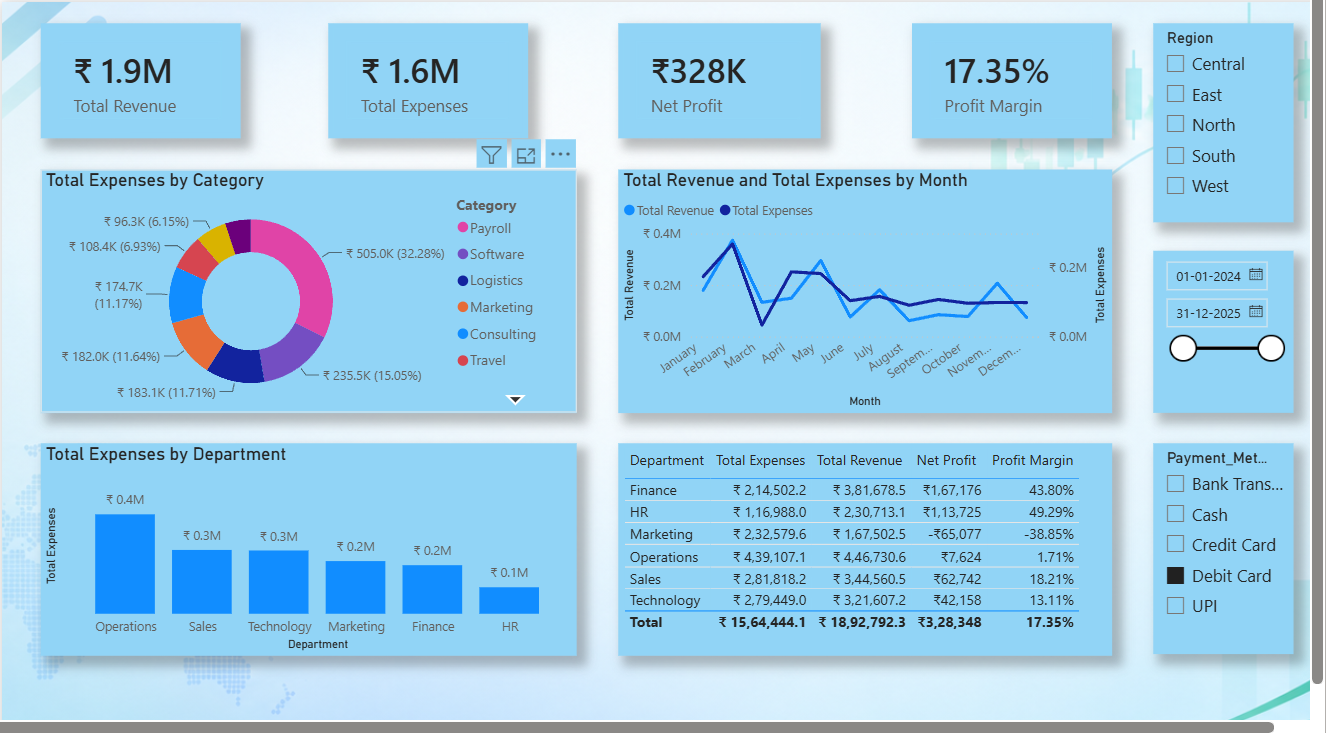

Layout of this report page (visuals, bound fields, positions):
{"tool":"powerbi","page":{"name":"Page 1","canvas":[1280,720],"ordinal":0},"visuals":[{"type":"cardVisual","fields":{"Data":["Finance.Total Revenue"]},"box":[36.9,20.2,190.5,109.5],"z":0},{"type":"cardVisual","fields":{"Data":["Finance.Total Expenses"]},"box":[310.7,20.2,190.5,109.5],"z":1},{"type":"cardVisual","fields":{"Data":["Finance.Net Profit"]},"box":[586.9,20.2,192.9,109.5],"z":2},{"type":"cardVisual","fields":{"Data":["Finance.Profit Margin"]},"box":[866.7,20.2,190.5,109.5],"z":3},{"type":"donutChart","fields":{"Category":["Finance.Category"],"Y":["Finance.Total Expenses"]},"box":[36.9,159.5,510.7,232.1],"z":4},{"type":"slicer","fields":{"Values":["Finance.Region"]},"box":[1096.4,20.2,133.3,189.3],"z":5},{"type":"slicer","fields":{"Values":["Finance.Date"]},"box":[1096.4,236.9,133.3,154.8],"z":6},{"type":"lineChart","fields":{"Category":["Finance.Date.Variation.Date Hierarchy.Month"],"Y":["Finance.Total Revenue"],"Y2":["Finance.Total Expenses"]},"box":[586.9,159.5,470.2,232.1],"z":7},{"type":"clusteredColumnChart","fields":{"Category":["Finance.Department"],"Y":["Finance.Total Expenses"]},"box":[36.9,420.2,510.7,202.4],"z":8},{"type":"tableEx","fields":{"Values":["Finance.Department","Finance.Total Expenses","Finance.Total Revenue","Finance.Net Profit","Finance.Profit Margin"]},"box":[586.9,420.2,470.2,202.4],"z":9},{"type":"slicer","fields":{"Values":["Finance.Payment_Method"]},"box":[1096.4,420.2,133.3,201.2],"z":10}]}

Visuals, with their boxes in screenshot pixels (x1, y1, x2, y2), scaled from the page's 1280x720 canvas onto the 1332x733 screenshot:
cardVisual - Finance.Total Revenue: {"left": 38, "top": 21, "right": 237, "bottom": 132}
cardVisual - Finance.Total Expenses: {"left": 323, "top": 21, "right": 522, "bottom": 132}
cardVisual - Finance.Net Profit: {"left": 611, "top": 21, "right": 811, "bottom": 132}
cardVisual - Finance.Profit Margin: {"left": 902, "top": 21, "right": 1100, "bottom": 132}
donutChart - Finance.Category x Finance.Total Expenses: {"left": 38, "top": 162, "right": 570, "bottom": 399}
slicer - Finance.Region: {"left": 1141, "top": 21, "right": 1280, "bottom": 213}
slicer - Finance.Date: {"left": 1141, "top": 241, "right": 1280, "bottom": 399}
lineChart - Finance.Date.Variation.Date Hierarchy.Month x Finance.Total Revenue: {"left": 611, "top": 162, "right": 1100, "bottom": 399}
clusteredColumnChart - Finance.Department x Finance.Total Expenses: {"left": 38, "top": 428, "right": 570, "bottom": 634}
tableEx - Finance.Department x Finance.Total Expenses: {"left": 611, "top": 428, "right": 1100, "bottom": 634}
slicer - Finance.Payment_Method: {"left": 1141, "top": 428, "right": 1280, "bottom": 633}
